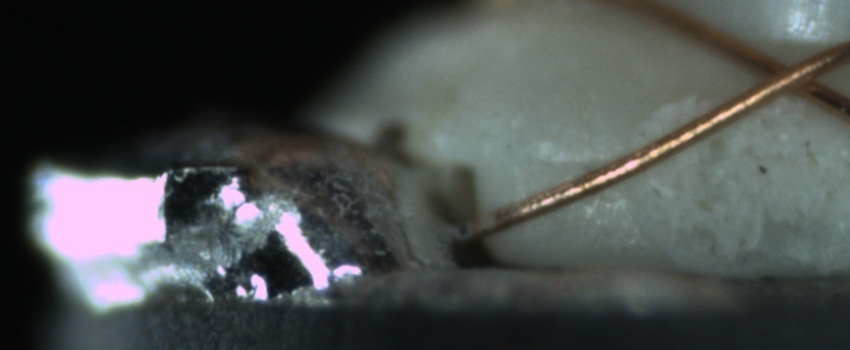CL: (736, 42, 841, 106)
DL: (522, 137, 612, 189)
